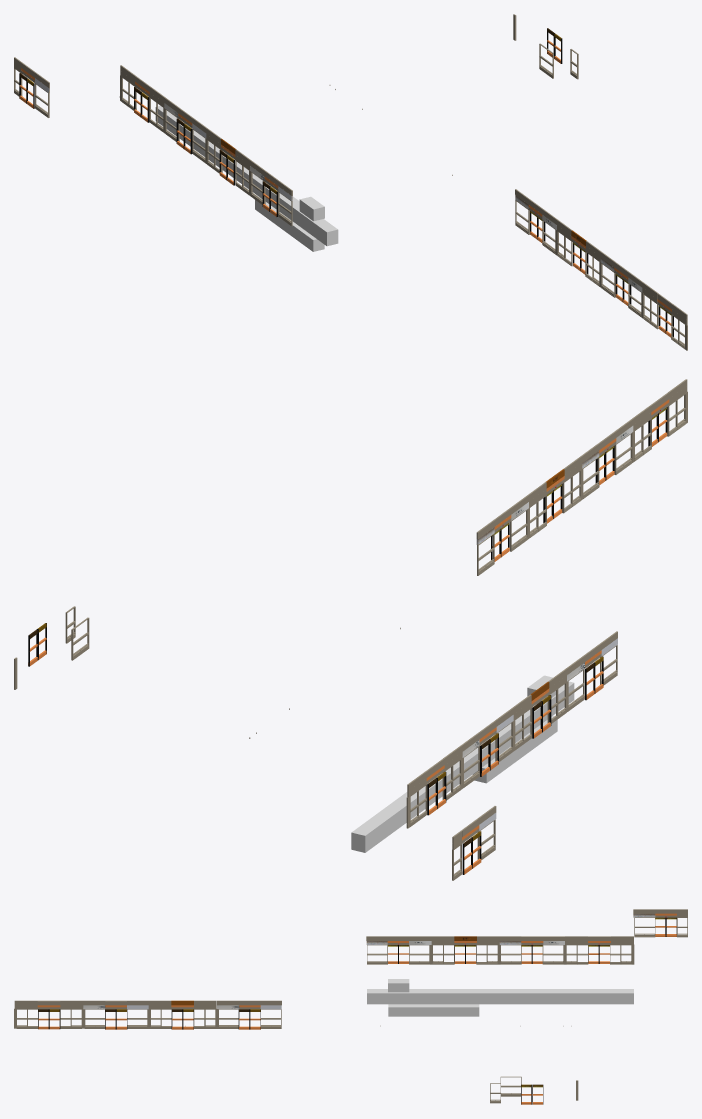
The model's file is Platform.fbx.
The picture shows the model from 3 angles, top to bottom: view 1: azimuth 30°, elevation 25°; view 2: azimuth 150°, elevation 25°; view 3: azimuth 270°, elevation 25°; orthographic projection. The views are drawn at different scales.
Visible parts, largest first — view 1: 立方體.467, 立方體.469; view 2: 立方體.467, 立方體.469; view 3: 立方體.467, 立方體.469.
Part boxes in pixels (box(x1,y1,x2,y2)): 立方體.467: box(155, 105, 338, 246); 立方體.469: box(255, 196, 324, 251); 立方體.467: box(351, 681, 574, 852); 立方體.469: box(472, 716, 557, 783); 立方體.467: box(367, 989, 633, 1004); 立方體.469: box(388, 1004, 479, 1016).
Bounding box in the file's own units: 7803 × 1347 × 13191.
